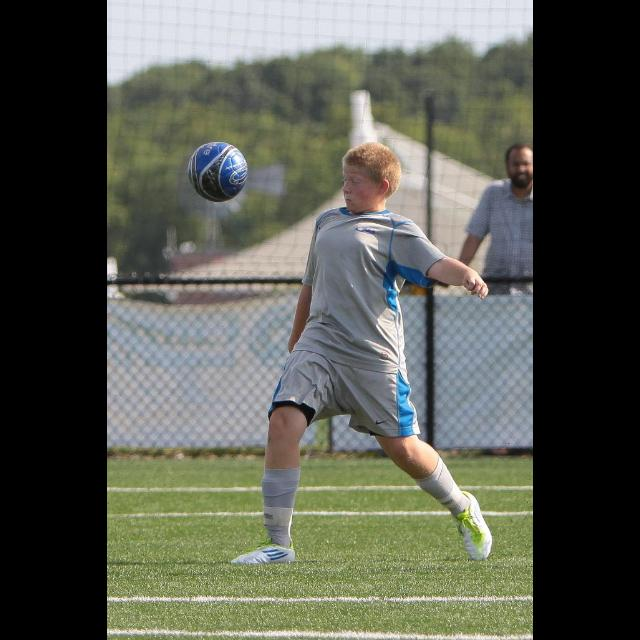Football: (189, 140, 249, 202)
